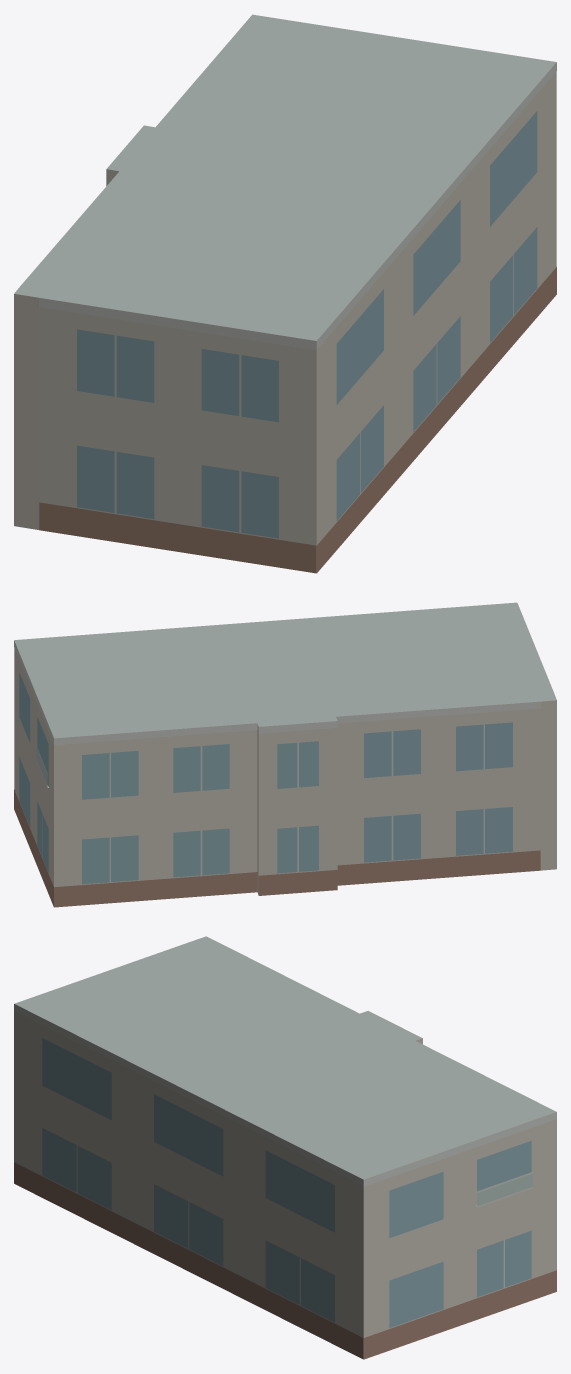
The model's file is survey-upis-32772490.glb.
3 renders of one model, top to bottom at view 1: azimuth 30°, elevation 25°; view 2: azimuth 150°, elevation 25°; view 3: azimuth 270°, elevation 25°, orthographic. The views are drawn at different scales.
Parts seen in each view (by area): view 1: survey-upis-32772490.tmp; view 2: survey-upis-32772490.tmp; view 3: survey-upis-32772490.tmp.
Part boxes in pixels (<box>): survey-upis-32772490.tmp: <box>14,14,556,573</box>; survey-upis-32772490.tmp: <box>14,602,556,907</box>; survey-upis-32772490.tmp: <box>14,936,556,1359</box>.
Size of the model in its own units: 17.71 by 6.1 by 16.69.
